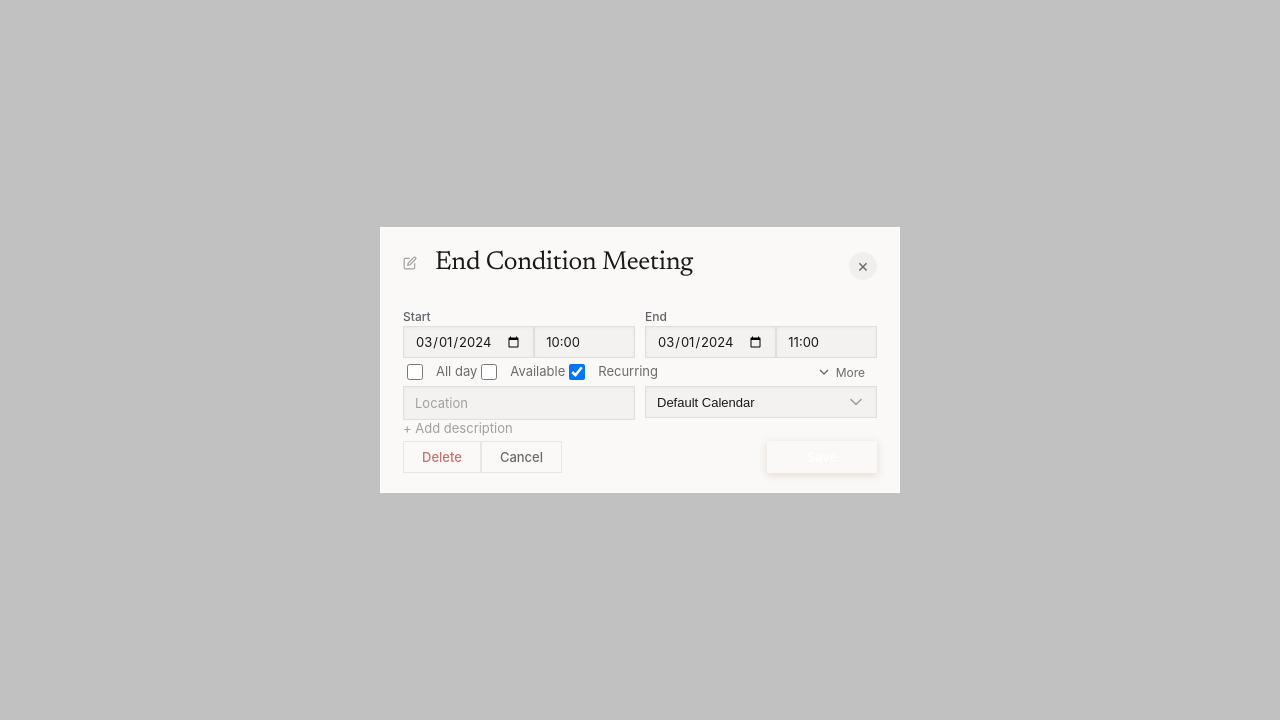
Test: EventModal › hasChanges with recurrence › shows RecurrenceDialog when changing end condition on recurring event
Click More to open recurrence controls
Click the button "More".
click(840, 372)  # box top-left (804, 358), bottom-right (877, 386)
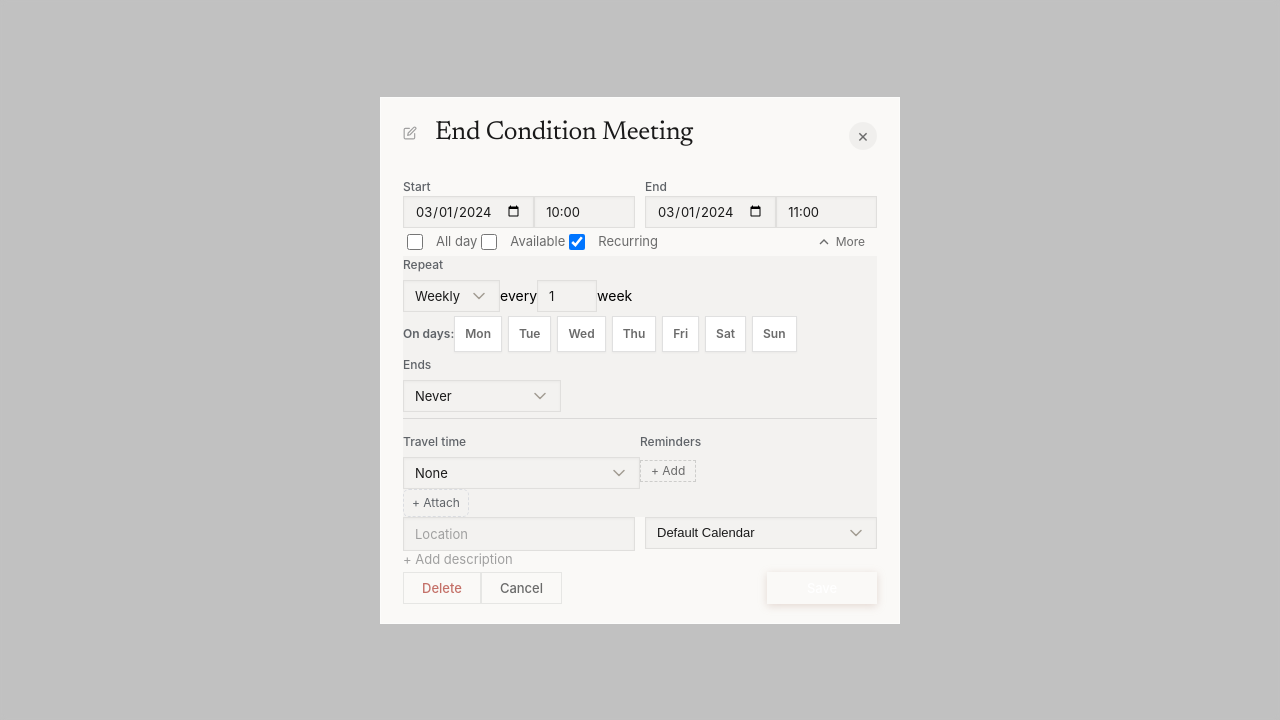
Change end condition from 'never' to 'after'
Select "After occurrences" in the dropdown labelled "Ends" at (482, 396), box top-left (403, 380), bottom-right (561, 412)
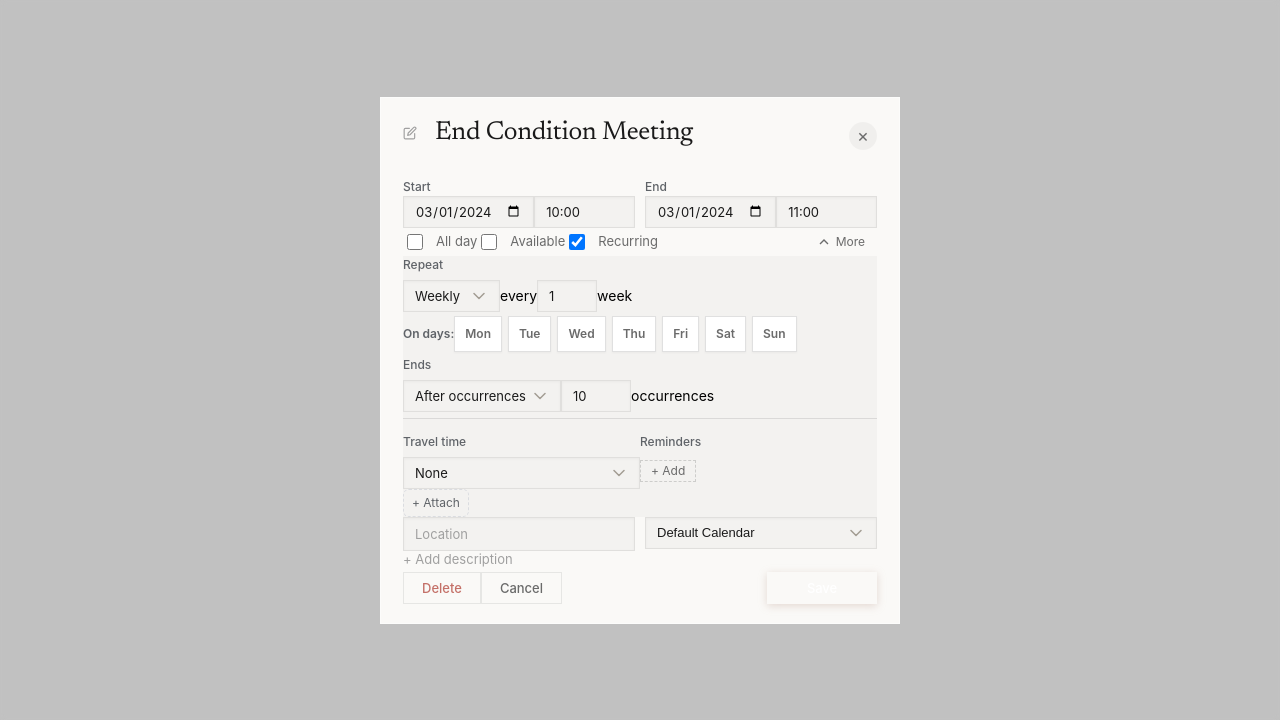
Click Save
Click the button "Save".
click(822, 588)  # box top-left (767, 572), bottom-right (877, 604)
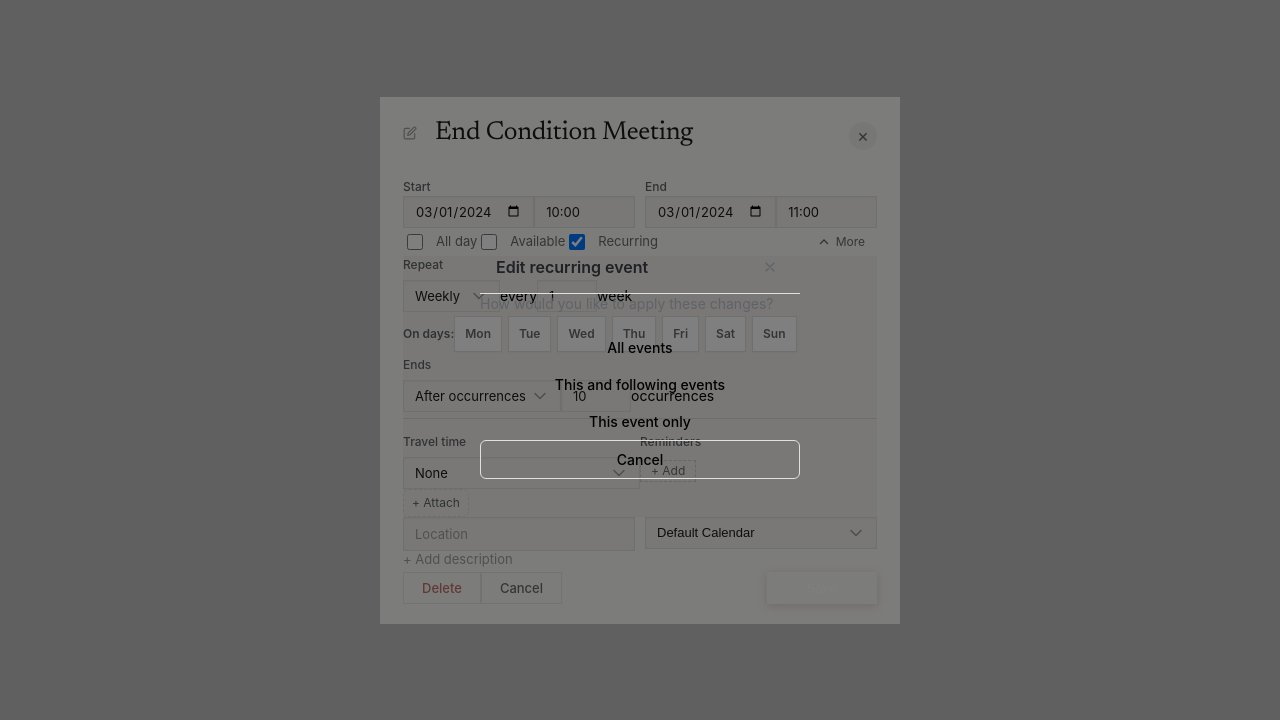
Expected: the heading "Edit recurring event" is shown, top-left (496, 255), bottom-right (648, 279)
